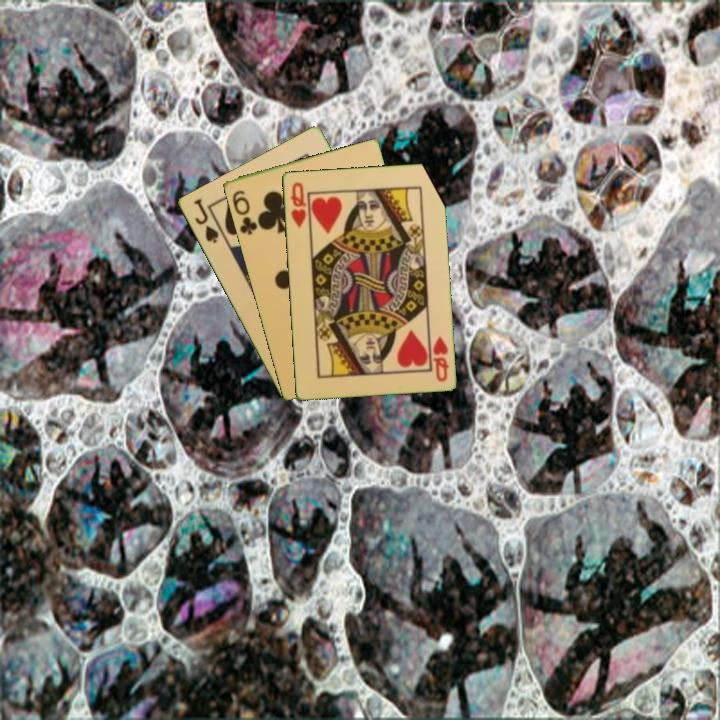6c: (228, 186, 260, 238)
Js: (190, 195, 221, 246)
Qh: (286, 178, 309, 230), (429, 332, 451, 384)
